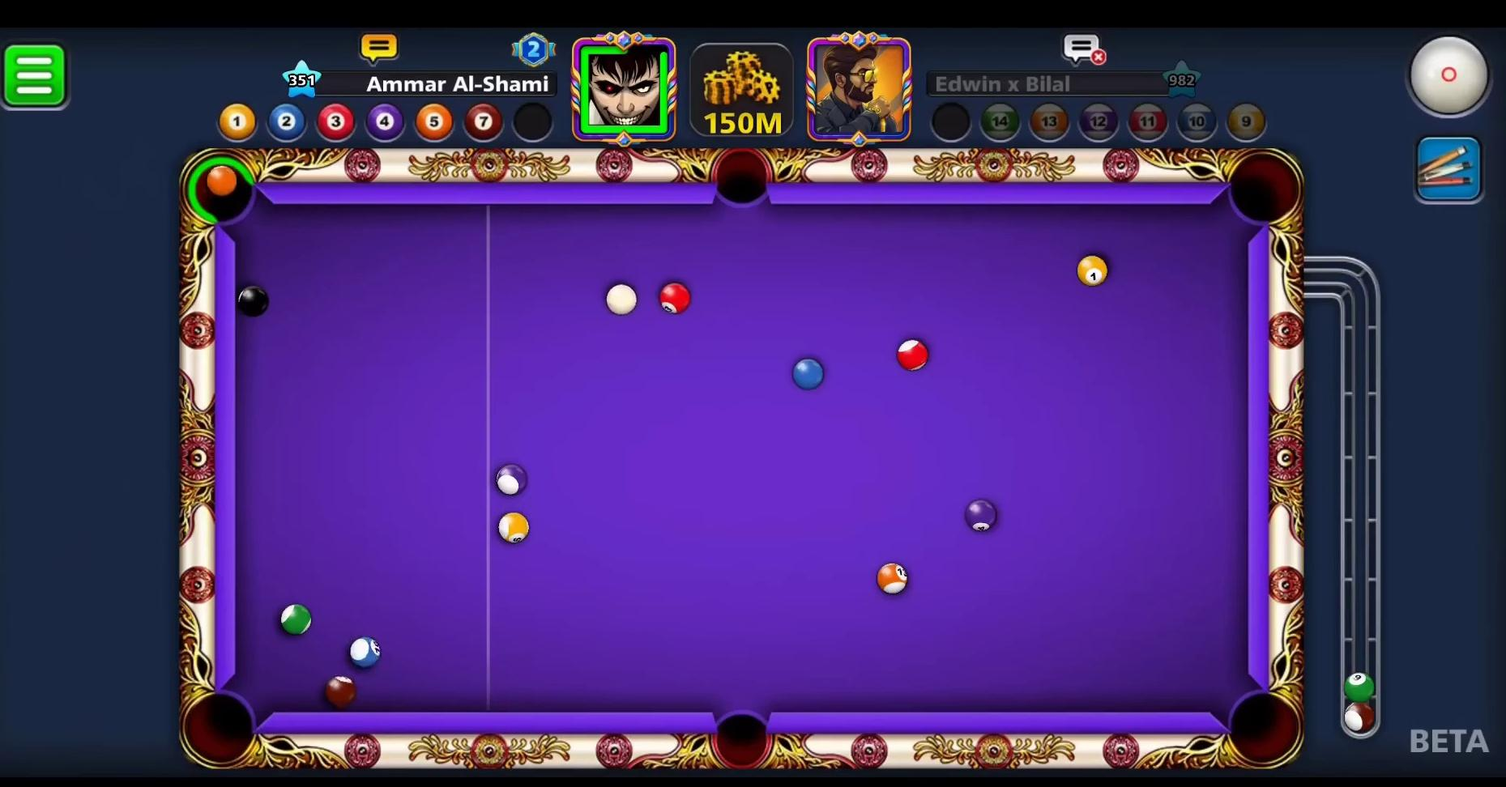Ball: (490, 504, 540, 553), (314, 671, 369, 713), (225, 282, 279, 322), (872, 551, 913, 603), (958, 494, 1003, 540), (488, 458, 536, 500), (1071, 252, 1117, 291), (272, 599, 318, 637), (894, 334, 935, 376), (345, 632, 390, 670), (655, 279, 698, 317), (791, 354, 826, 392)
Hole: (165, 677, 272, 775), (174, 141, 268, 239), (1215, 683, 1308, 776), (1220, 141, 1304, 235), (701, 692, 783, 776), (698, 141, 783, 222)
Play_Area: (233, 206, 1241, 713)
Spin: (1402, 27, 1504, 129)
White: (592, 279, 644, 322)
